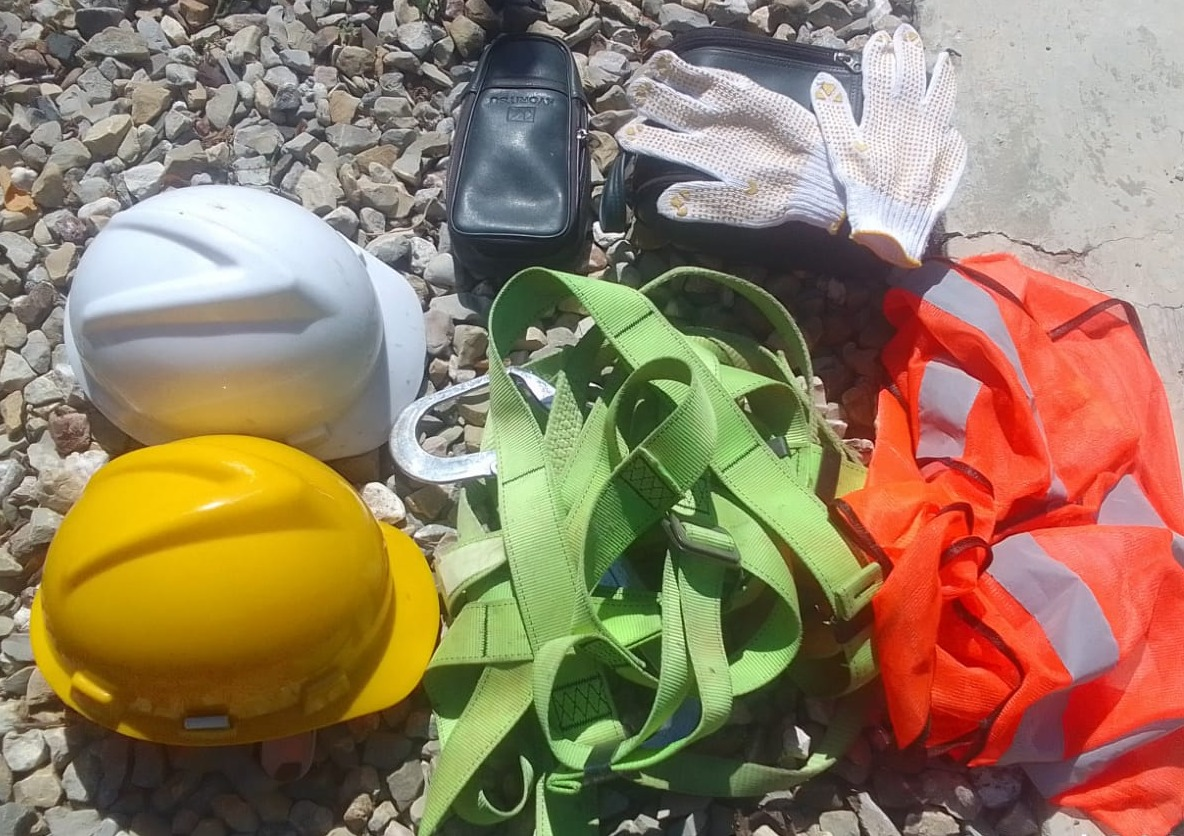SARUNG_TANGAN: (627, 66, 845, 232)
TAMBANG_SLING: (487, 360, 818, 781)
